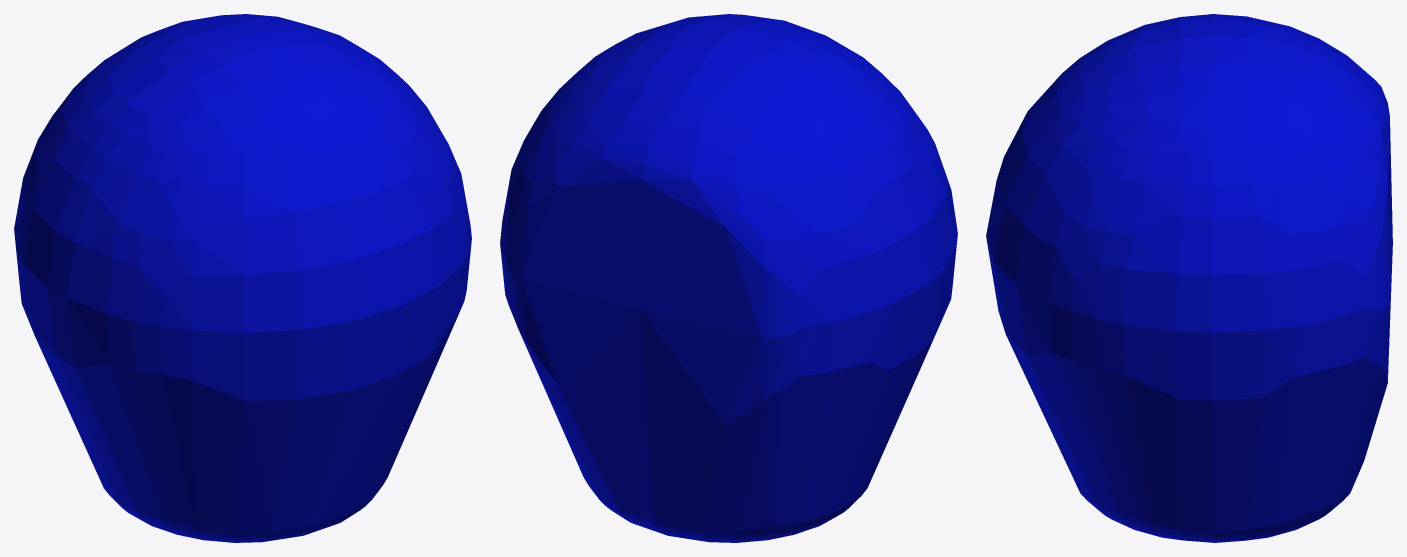
File: COL_hollie_real.004.dae
3 views of the same model, side by side, from view 1: azimuth 30°, elevation 25°; view 2: azimuth 150°, elevation 25°; view 3: azimuth 270°, elevation 25° (orthographic).
Visible parts, largest first — view 1: COL_COL_COL_VIS_VIS_VIS_VIS_VIS_VIS_VIS_VIS_VIS_hollie_real_; view 2: COL_COL_COL_VIS_VIS_VIS_VIS_VIS_VIS_VIS_VIS_VIS_hollie_real_; view 3: COL_COL_COL_VIS_VIS_VIS_VIS_VIS_VIS_VIS_VIS_VIS_hollie_real_.
Boxes of the visible parts, bbox=[...] form: COL_COL_COL_VIS_VIS_VIS_VIS_VIS_VIS_VIS_VIS_VIS_hollie_real_: bbox=[14, 14, 471, 542]; COL_COL_COL_VIS_VIS_VIS_VIS_VIS_VIS_VIS_VIS_VIS_hollie_real_: bbox=[500, 14, 957, 542]; COL_COL_COL_VIS_VIS_VIS_VIS_VIS_VIS_VIS_VIS_VIS_hollie_real_: bbox=[986, 14, 1392, 542].
Size of the model in its own units: 0.1548 by 0.1374 by 0.1725.
